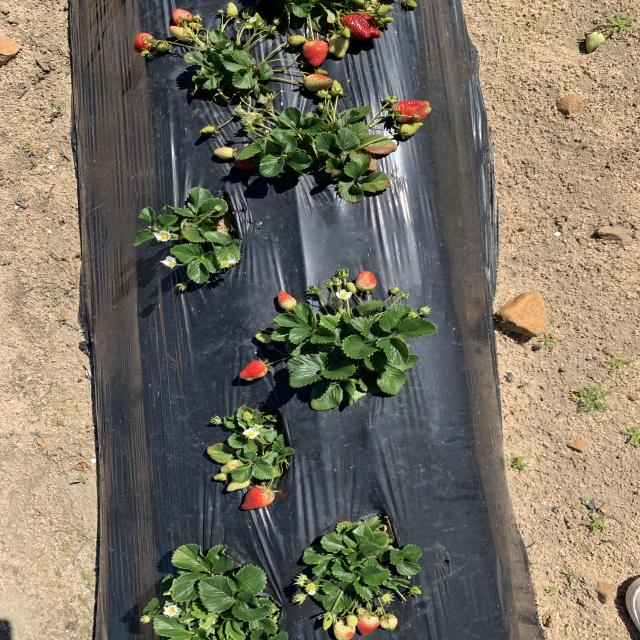unripe: (338, 11, 383, 42), (238, 483, 276, 513), (391, 98, 433, 122), (302, 38, 331, 66), (238, 360, 270, 381), (131, 33, 158, 52), (357, 614, 378, 637)
